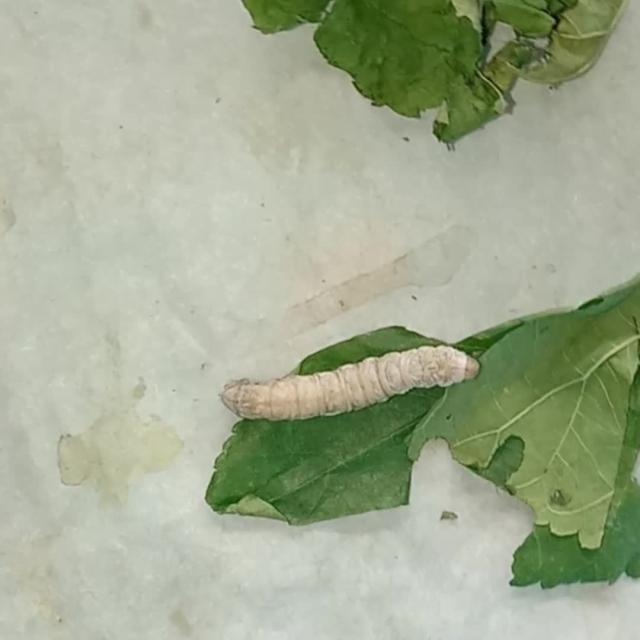Grasserie: (181, 287, 503, 552)
